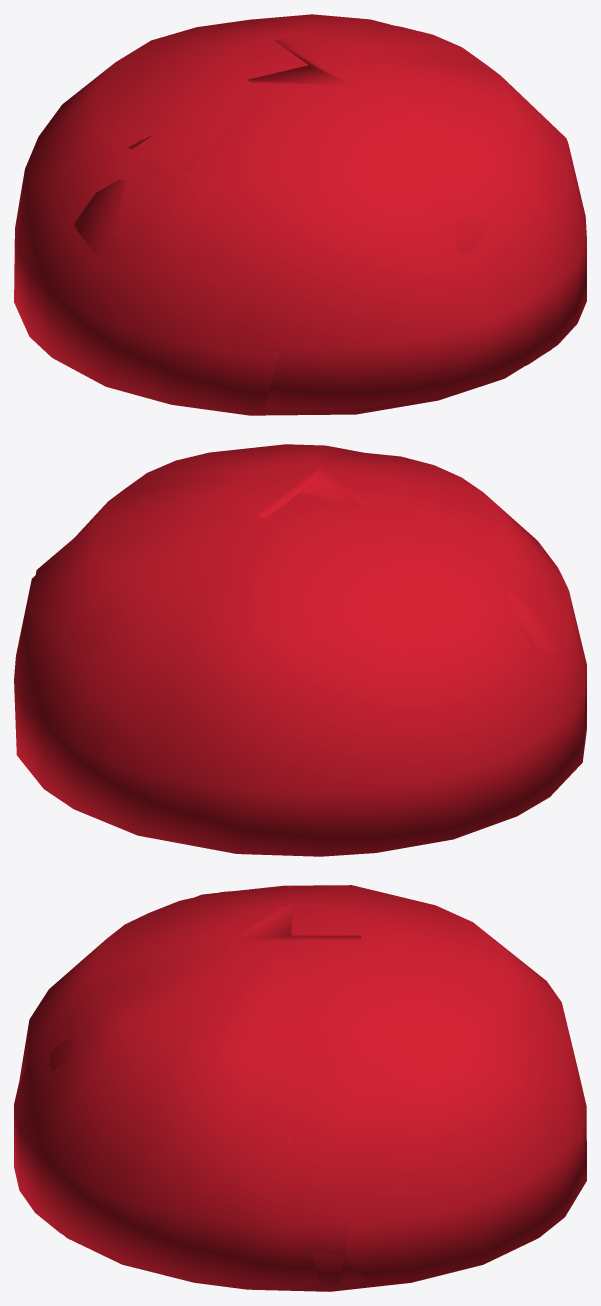
Rendered from Cake.fbx.
The picture shows the model from 3 angles, top to bottom: view 1: azimuth 30°, elevation 25°; view 2: azimuth 150°, elevation 25°; view 3: azimuth 270°, elevation 25°; orthographic projection.
Parts seen in each view (by area): view 1: Cake3/4, Cake4/4, Cake2/4, Cake1/4; view 2: Cake4/4, Cake3/4, Cake2/4; view 3: Cake3/4, Cake4/4, Cake2/4.
Part boxes in pixels (x1,y1,x2,y2): Cake3/4: (134, 23, 586, 410); Cake4/4: (14, 14, 551, 415); Cake2/4: (74, 139, 487, 255); Cake1/4: (147, 165, 212, 239); Cake4/4: (14, 492, 586, 856); Cake3/4: (35, 444, 565, 585); Cake2/4: (468, 543, 566, 655); Cake3/4: (14, 886, 416, 1286); Cake4/4: (64, 885, 586, 1291); Cake2/4: (49, 885, 292, 1144).
Size of the model in its own units: 16.85 by 7.67 by 16.74.
